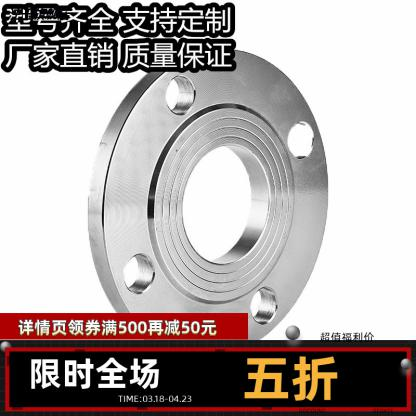FOD: (80, 38, 337, 348)
